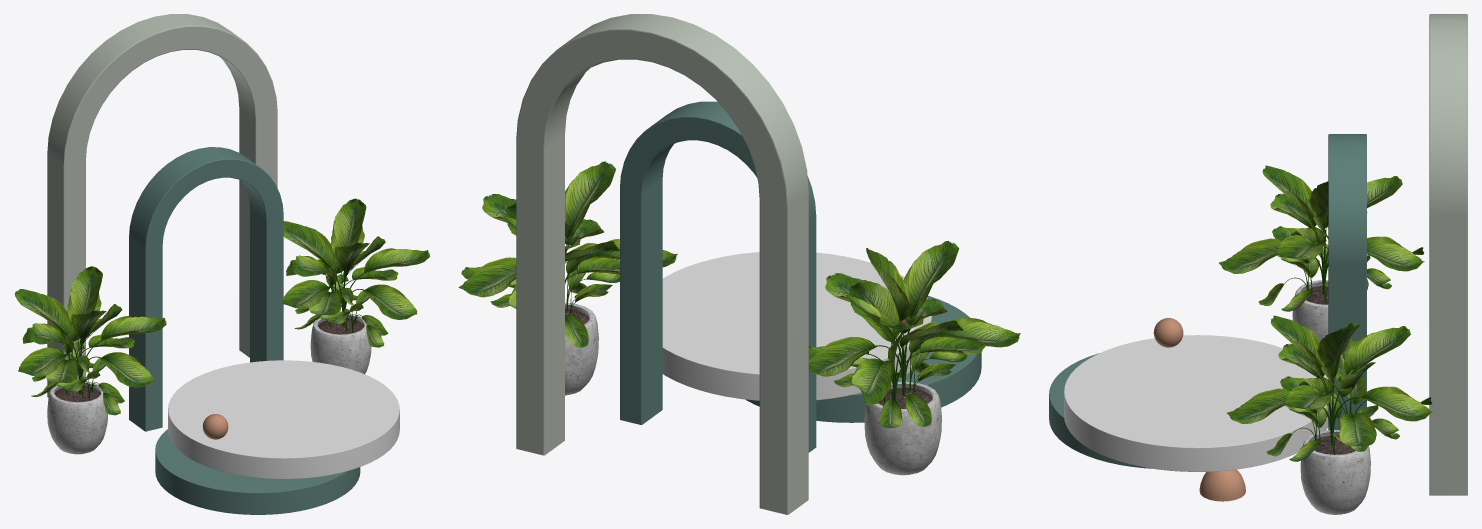
File: podium.glb
The picture shows the model from 3 angles, left to right: view 1: azimuth 30°, elevation 25°; view 2: azimuth 150°, elevation 25°; view 3: azimuth 270°, elevation 25°; orthographic projection. The views are drawn at different scales.
Visible parts, largest first — view 1: podium; view 2: podium; view 3: podium.
Boxes of the visible parts, <box> form: podium: <box>14,14,429,514</box>; podium: <box>458,14,1020,514</box>; podium: <box>1049,14,1467,514</box>.
Size of the model in its own units: 2.47 by 2.01 by 1.87.
Materials: 8 (3 with a texture image).
